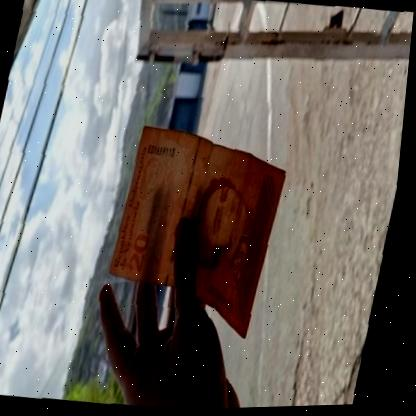twenty-front-vef: (101, 121, 298, 345)
